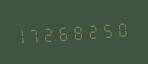eight: (73, 20, 86, 43)
five: (101, 18, 114, 41)
one: (17, 23, 30, 47)
seven: (31, 23, 44, 46)
six: (59, 21, 72, 44)
two: (45, 22, 58, 45), (87, 19, 100, 42)
zero: (115, 17, 128, 40)
